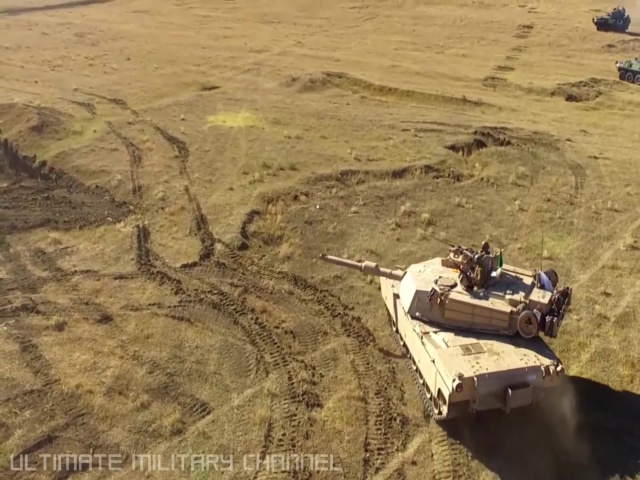vehicle: (380, 243, 569, 420), (592, 6, 632, 32)
